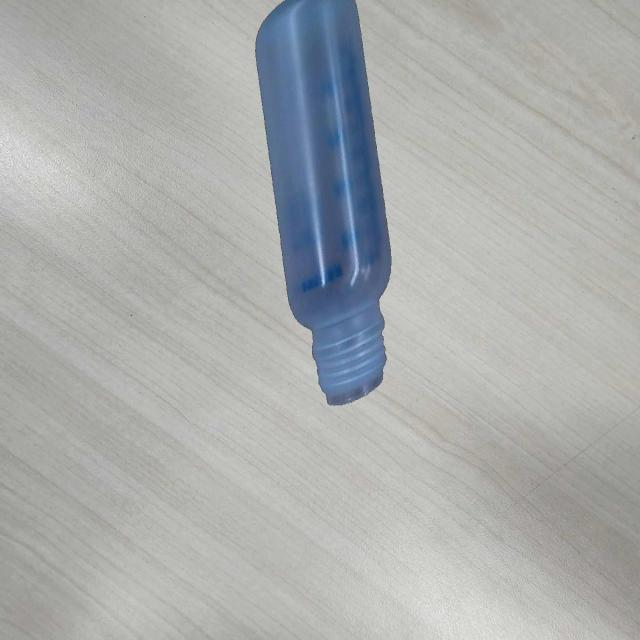bottle: (252, 0, 394, 408)
